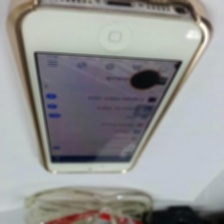phone: (6, 0, 218, 176)
